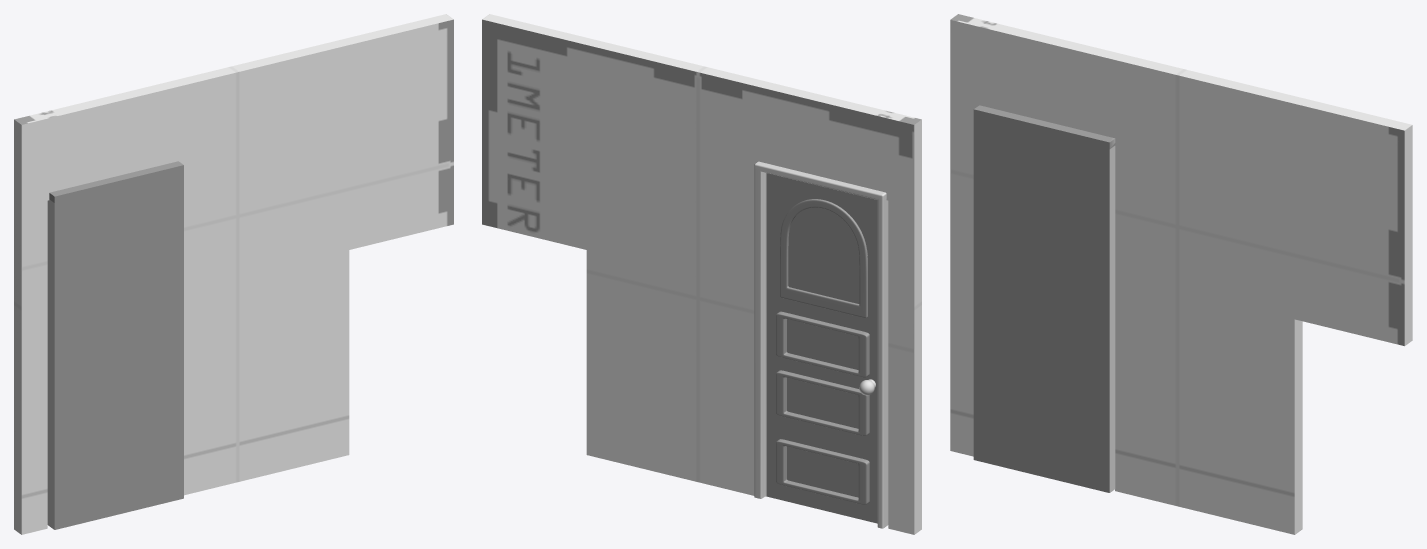
File: wall+door.fbx
3 renders of one model, left to right at view 1: azimuth 30°, elevation 25°; view 2: azimuth 150°, elevation 25°; view 3: azimuth 330°, elevation 25°, orthographic. The views are drawn at different scales.
Parts seen in each view (by area): view 1: polySurface1, pCube1; view 2: polySurface1, pCube1, pCube5; view 3: polySurface1, pCube1.
Part boxes in pixels (left/top/right/bottom): polySurface1: left=14, top=14, right=453, bottom=534; pCube1: left=47, top=161, right=183, bottom=529; polySurface1: left=482, top=14, right=921, bottom=534; pCube1: left=754, top=161, right=888, bottom=528; pCube5: left=776, top=199, right=869, bottom=504; polySurface1: left=950, top=14, right=1412, bottom=534; pCube1: left=973, top=105, right=1115, bottom=492.
Bounding box in the file's own units: 16.55 × 15 × 1.4.
4 materials, 1 textured.
